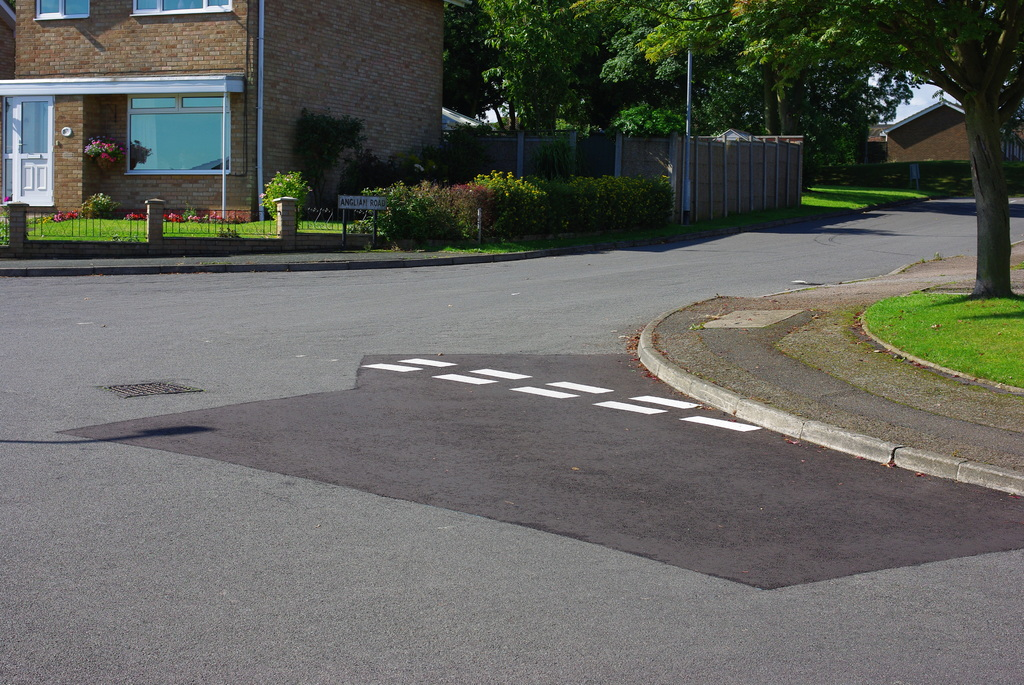Tree: (440, 0, 1024, 293)
